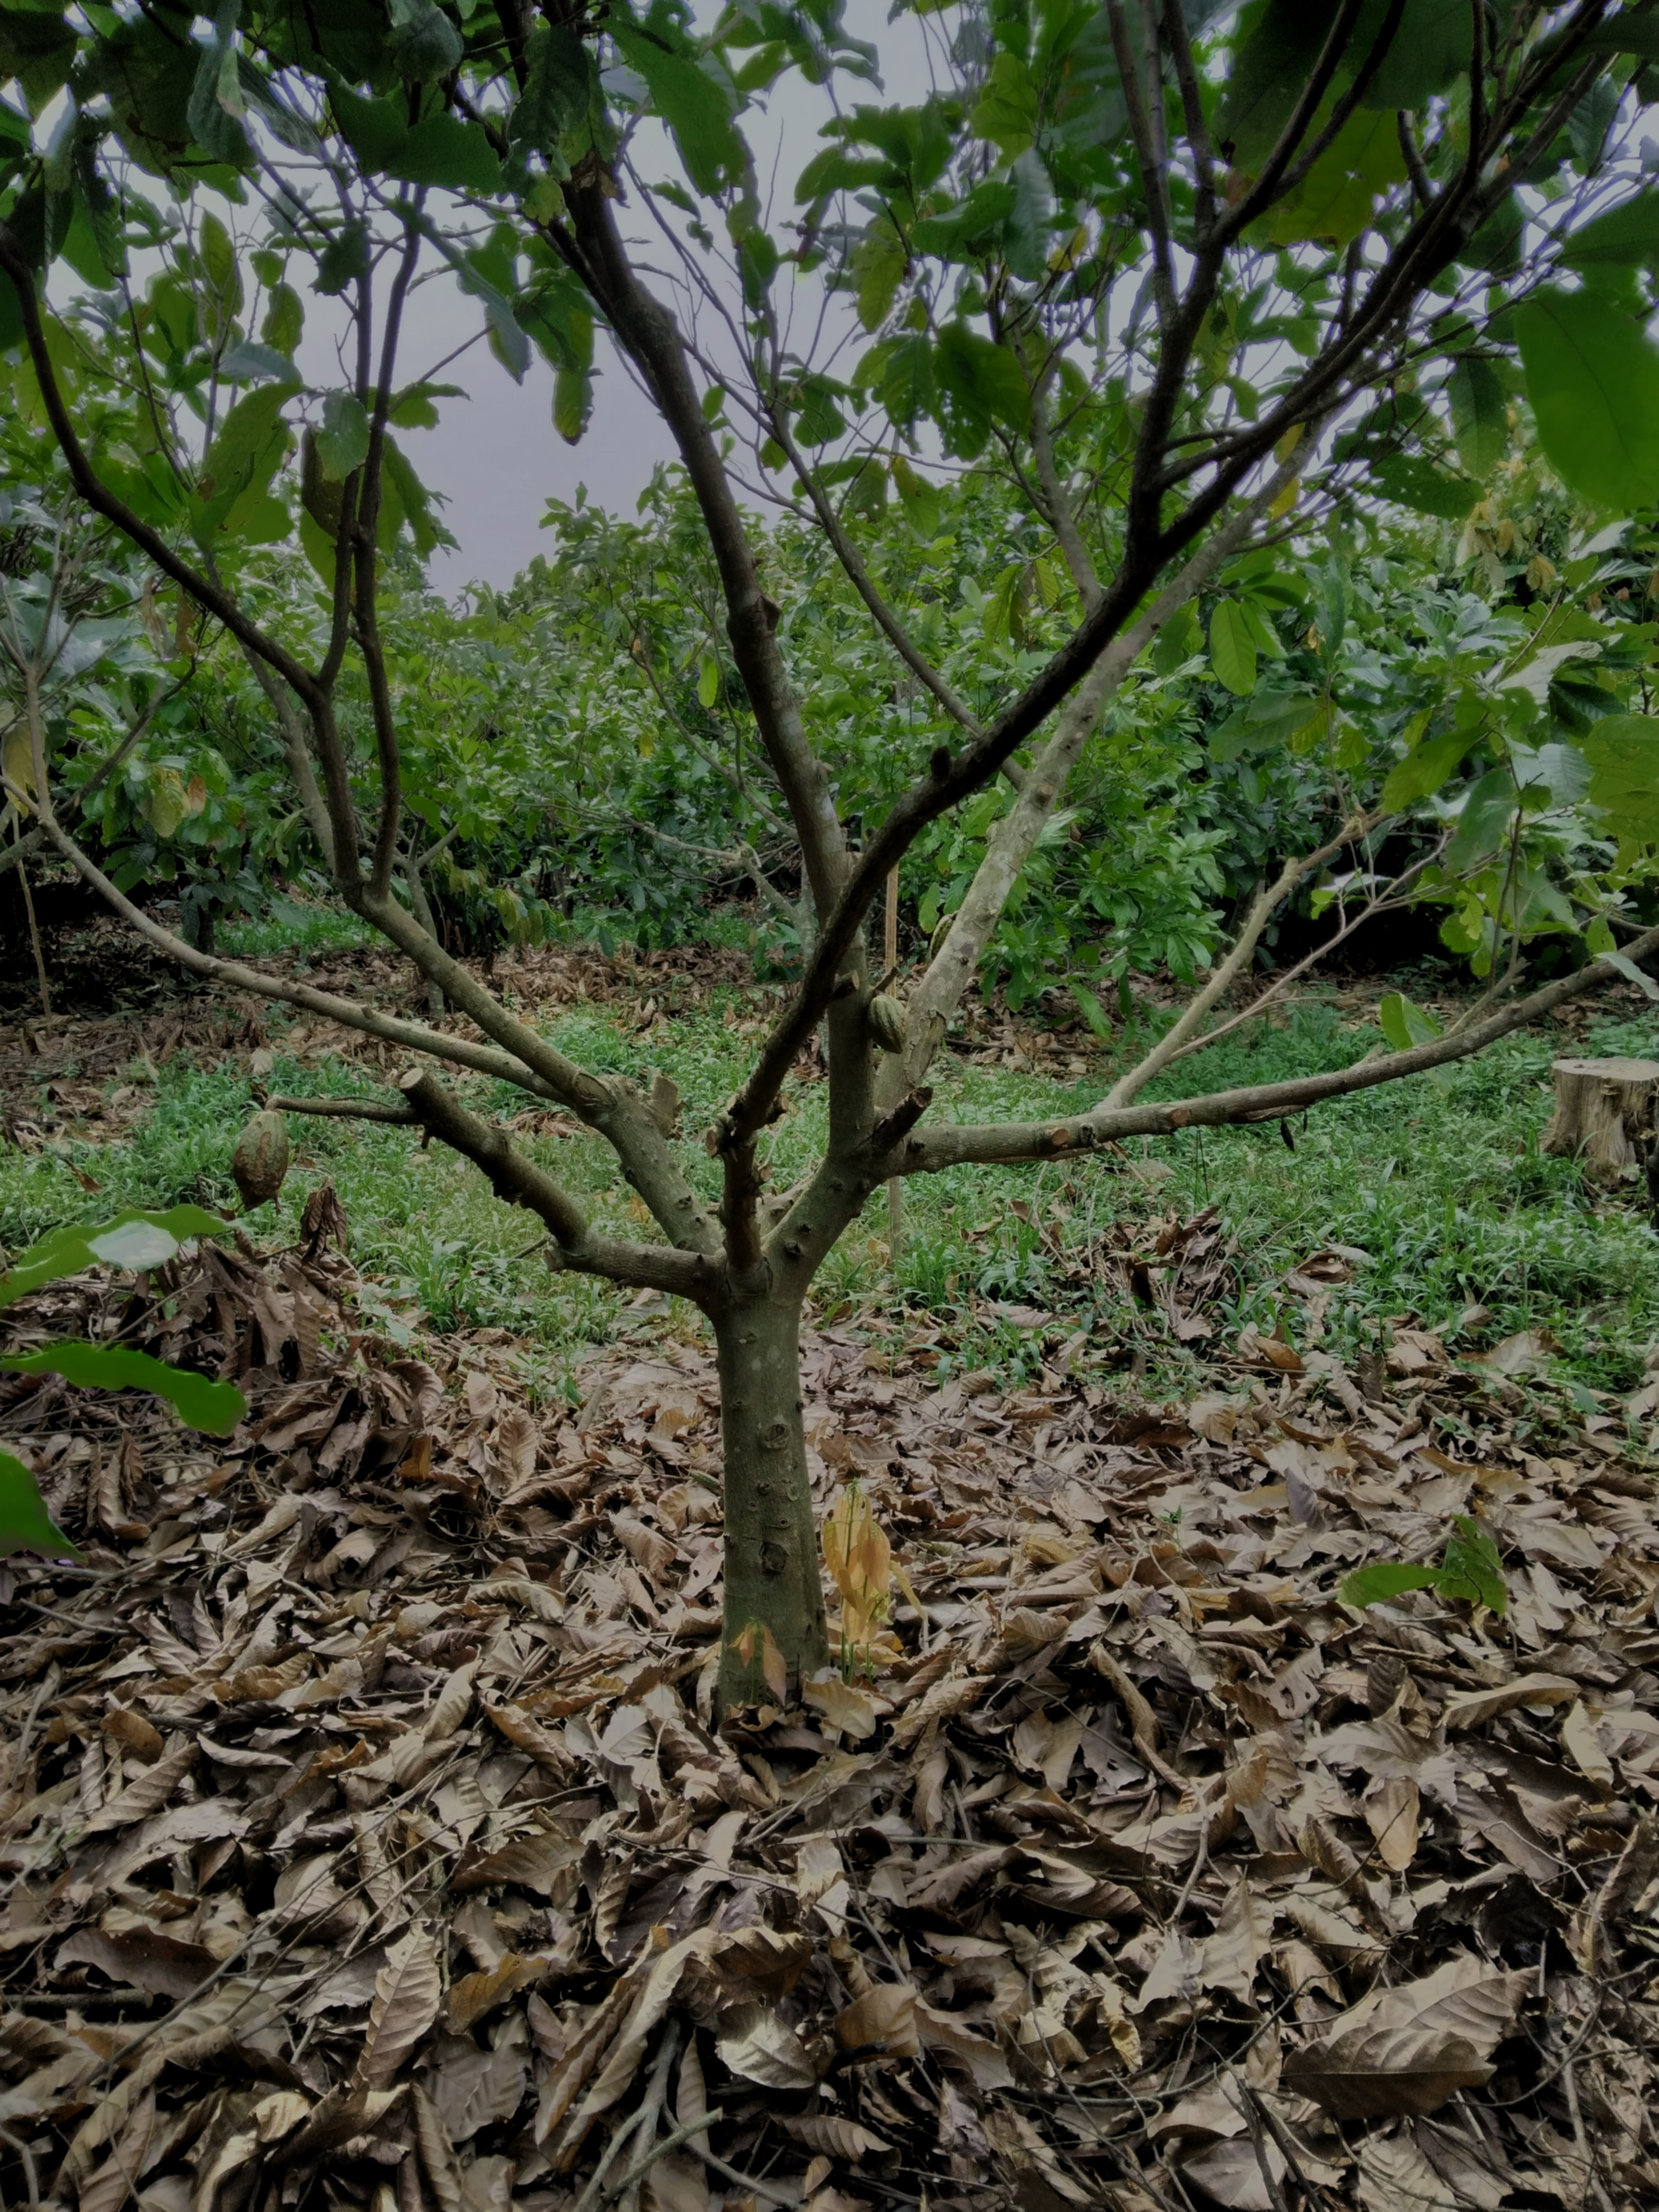cocoa_pod: (833, 1825, 908, 1907), (741, 996, 791, 1055), (685, 942, 713, 970)
